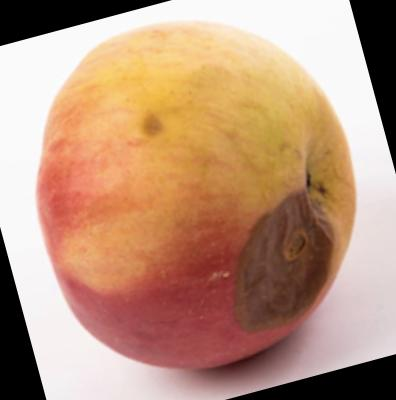Apple: (54, 31, 349, 356)
